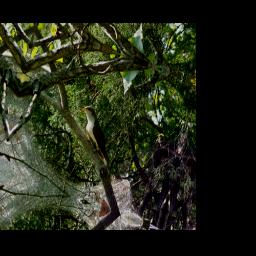Cuckoo: (67, 102, 127, 182)
